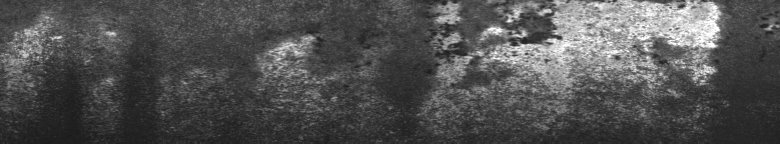kb: (364, 4, 776, 135)
